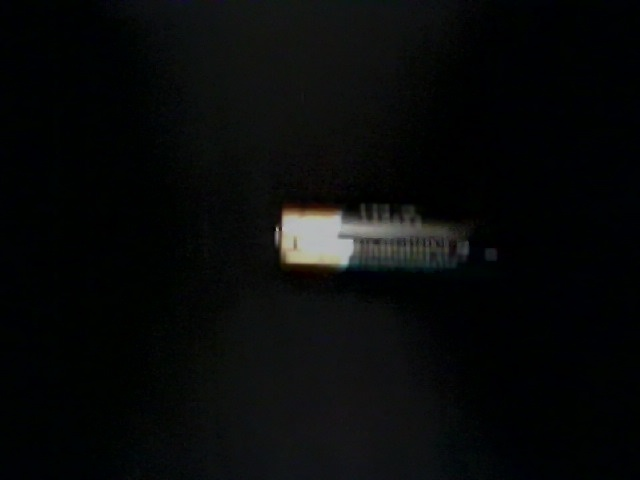QTLJ: (91, 149, 297, 310)
